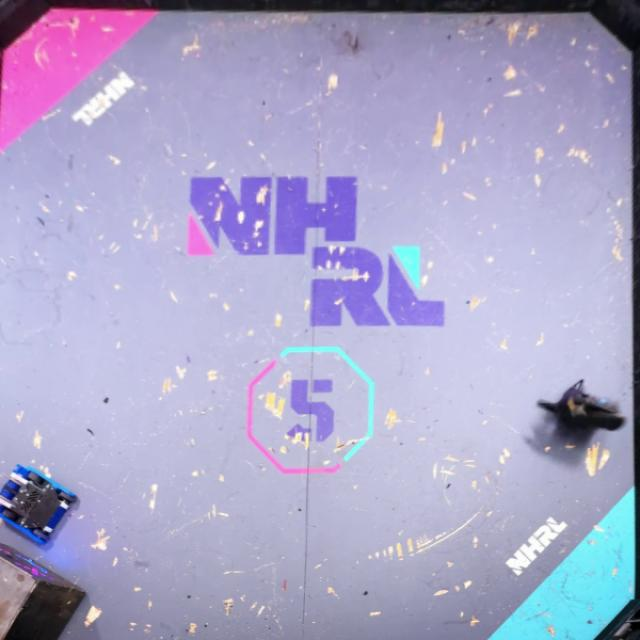housebot: (0, 538, 87, 640)
robot: (0, 465, 79, 549), (536, 381, 627, 441)
